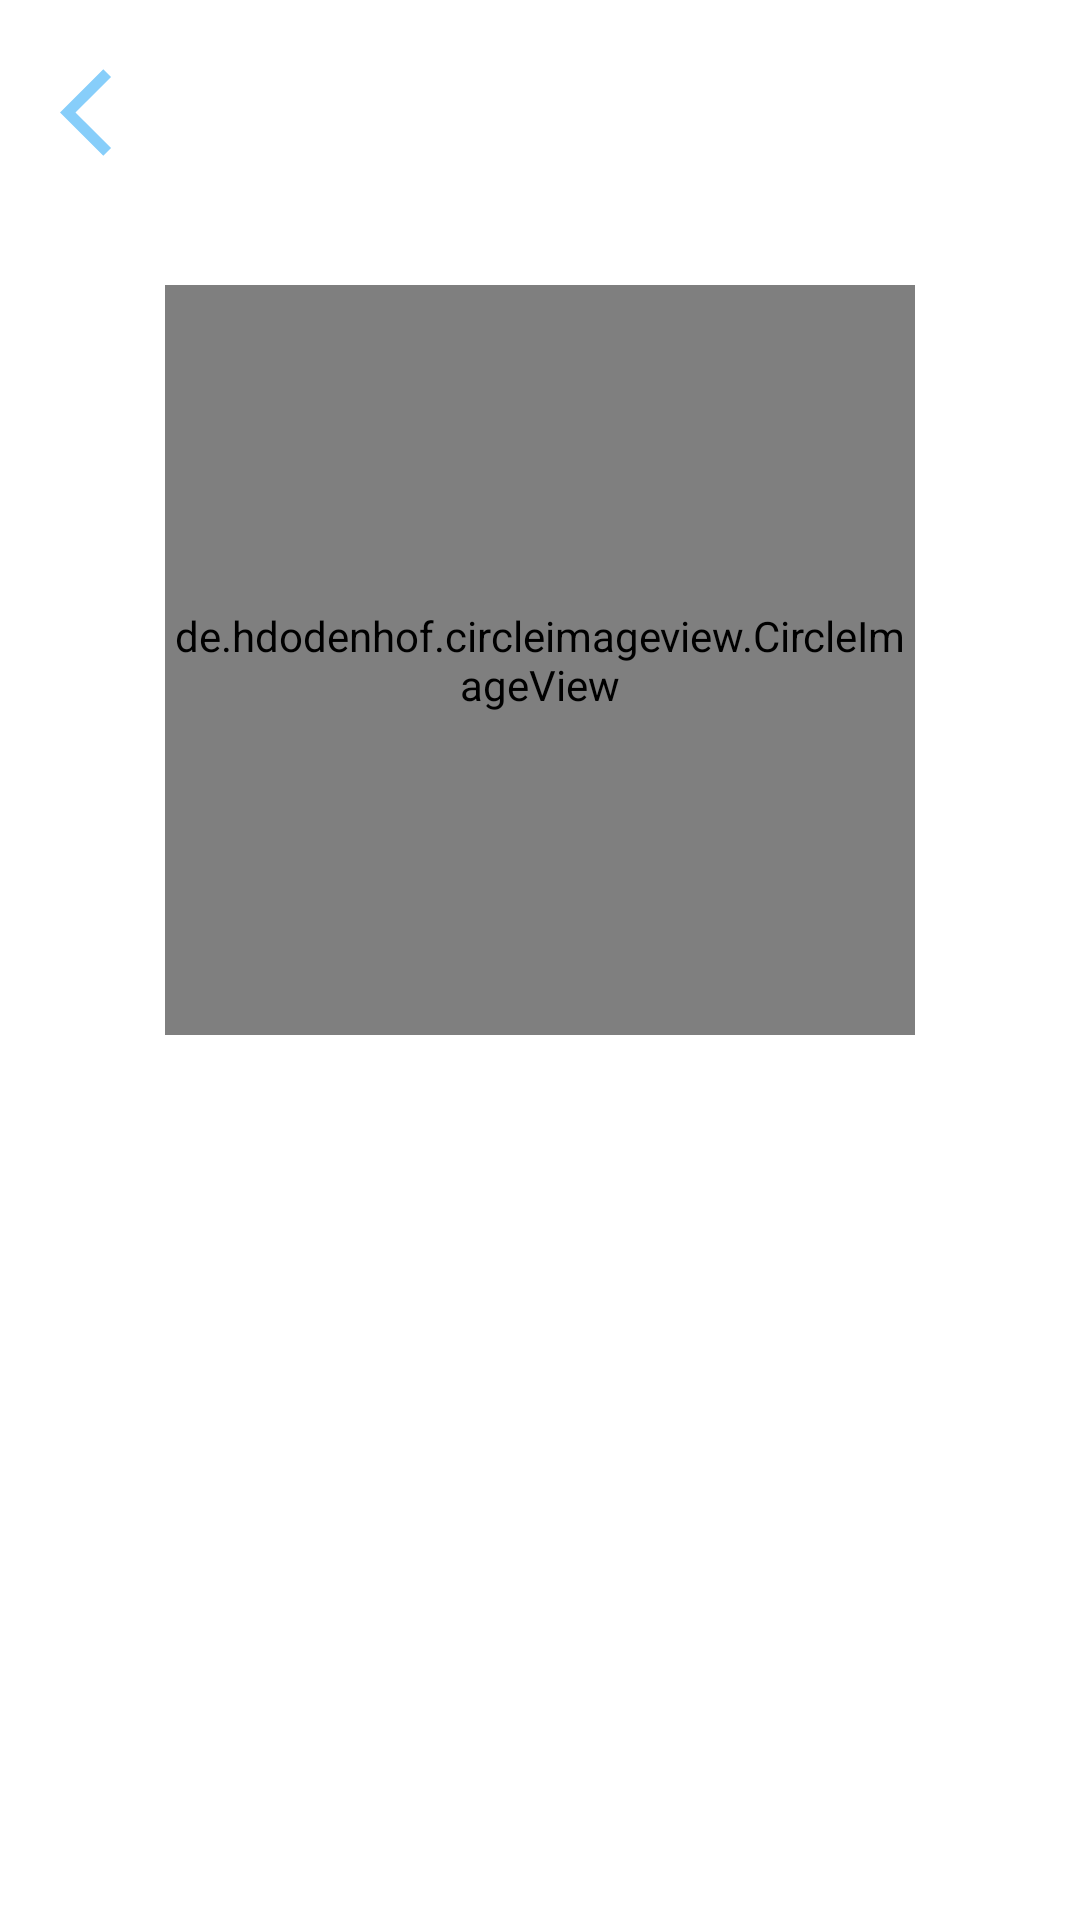

Point at icon controls on the screen. Image size 1080 × 1920, points as (x=x, y=y).
back: (x=85, y=112)
